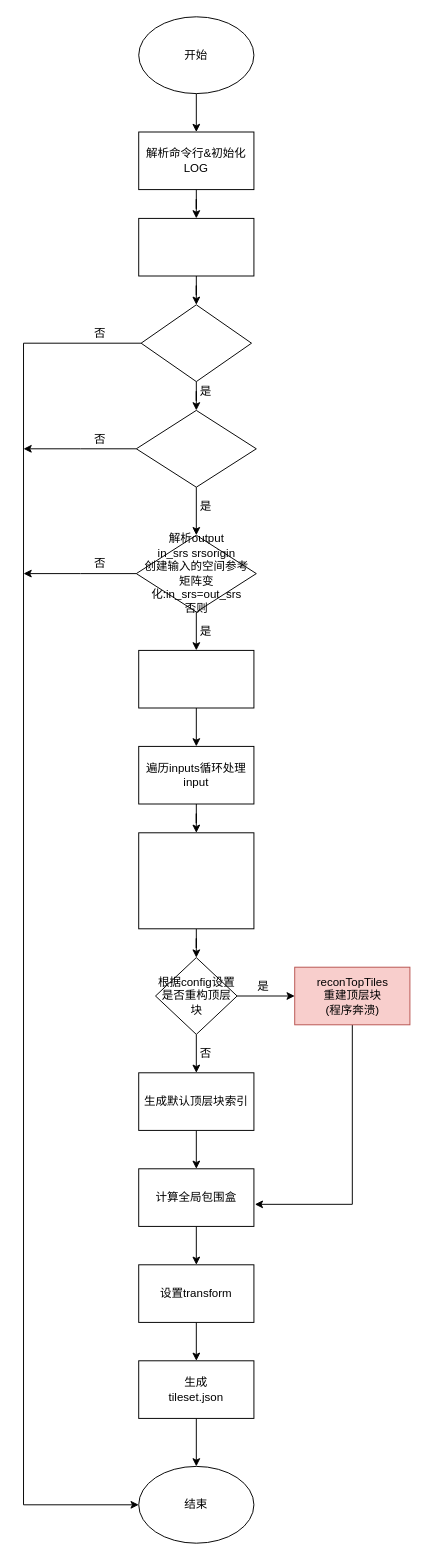
This 427x1560 diagram has some shape labels left out. The shapes that lost their labels are listed below. From the top down, each one's box as (x1, y1, x2, y2) in pixels, then its label:
(138, 217, 254, 276): 注册插件 initPlugins
(140, 304, 252, 382): 解析task.json
(135, 409, 256, 487): 解析inputs in_srs srsorigin 创建输入的空间参考 矩阵变化:in_srs=out_srs 否则
(138, 649, 254, 708): 初始化缓存
(138, 832, 254, 929): osgb2b3dm 一对一转换 根据config设置和 tile数量判断多线程处理还是单线程处理
